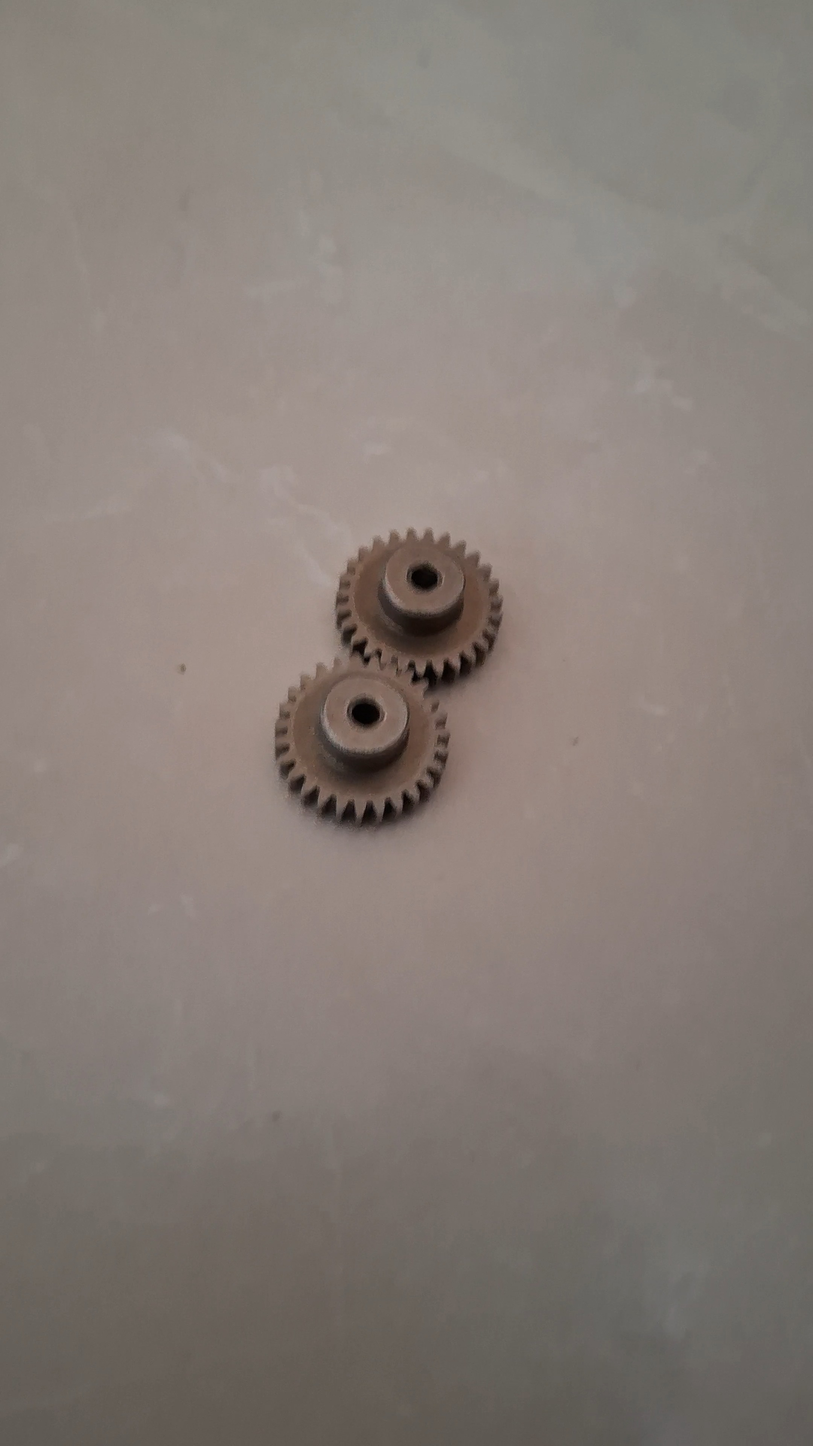spur gear: (255, 674, 429, 836), (319, 548, 484, 698)
